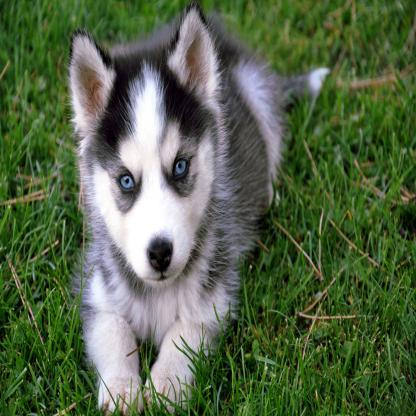dog: (66, 12, 330, 416)
